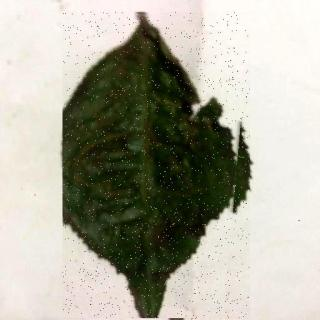Red Leaf Spot: (64, 13, 251, 320)
